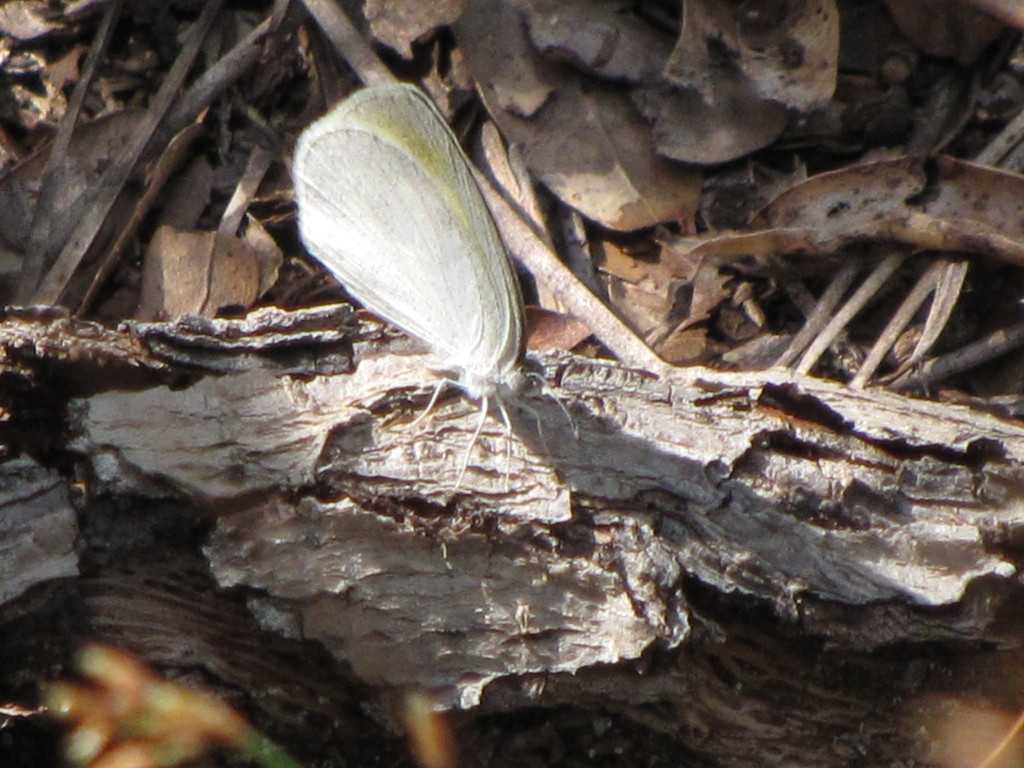Butterfly: (266, 76, 561, 420)
